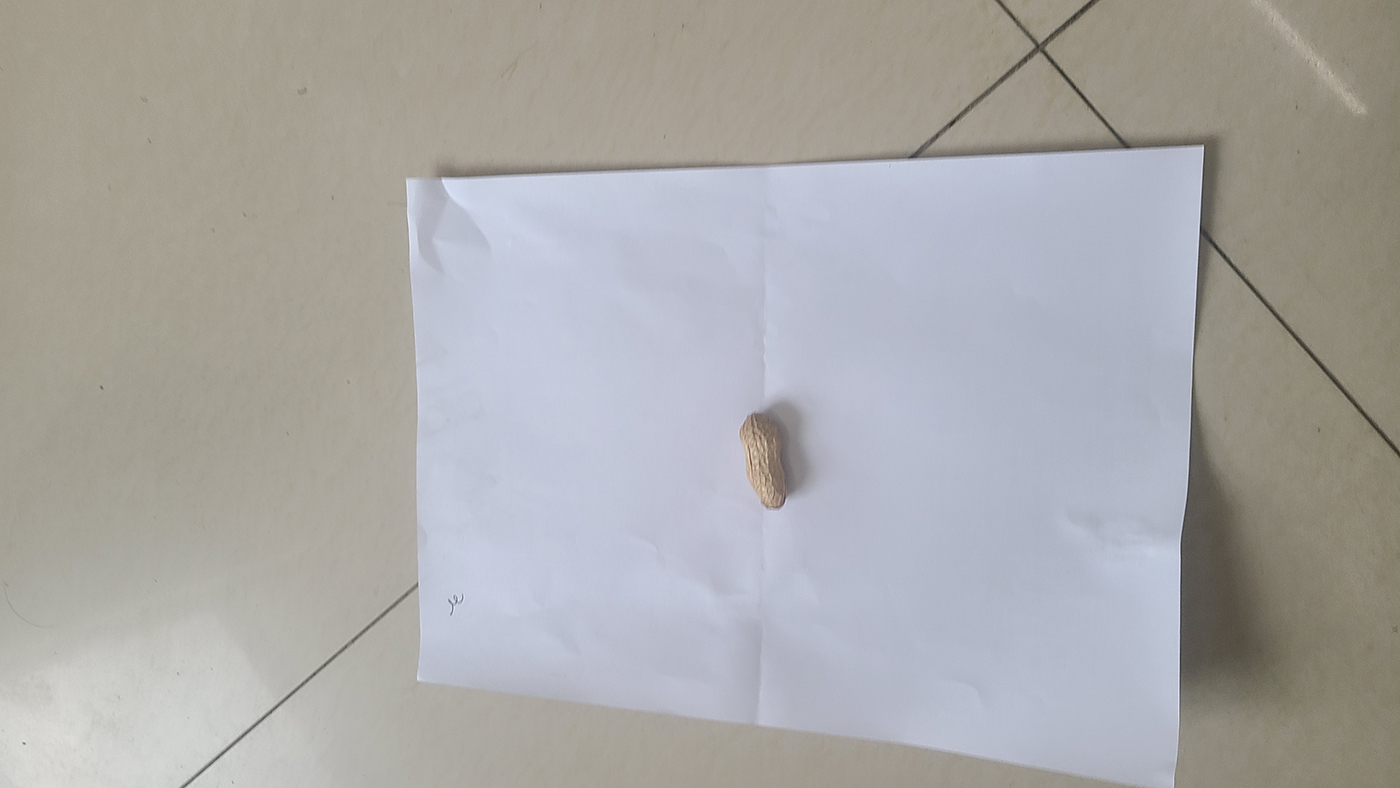h: (741, 408, 791, 513)
